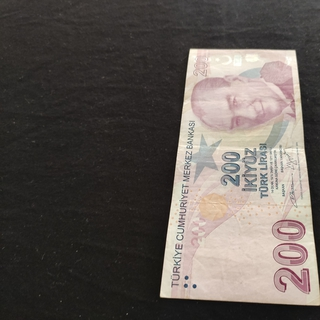200TLFront: (159, 48, 320, 305)
